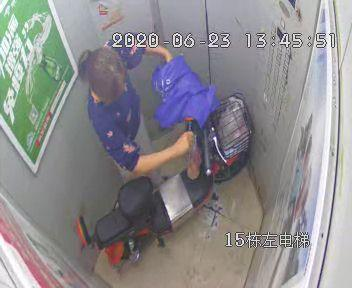Electric-bicycle: (77, 84, 248, 260)
